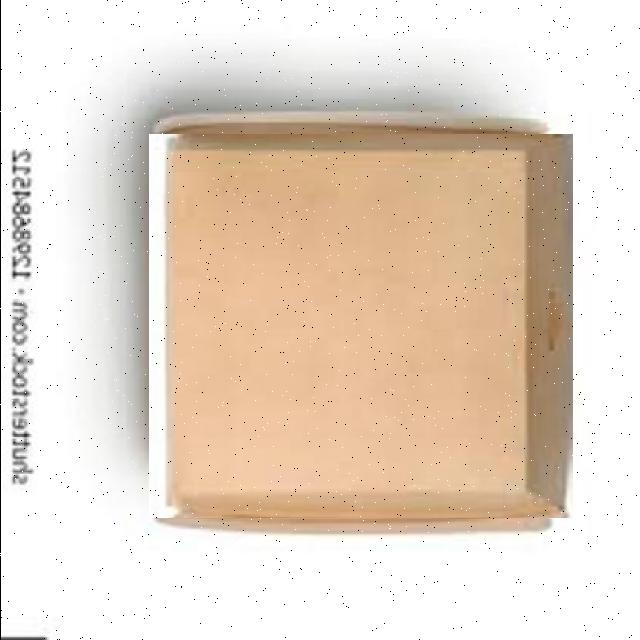normal: (148, 134, 572, 518)
